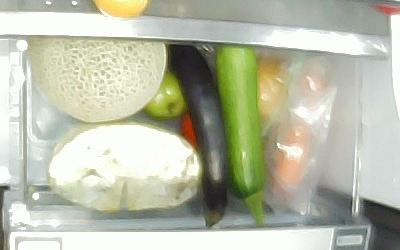cabbage: (47, 121, 201, 214)
carrot_vinyl: (268, 73, 327, 200)
eggplant: (166, 42, 227, 227)
melon: (27, 39, 167, 122)
pear_vinyl: (253, 55, 288, 119)
tomato: (141, 71, 190, 119)
zucchini: (216, 45, 267, 228)
